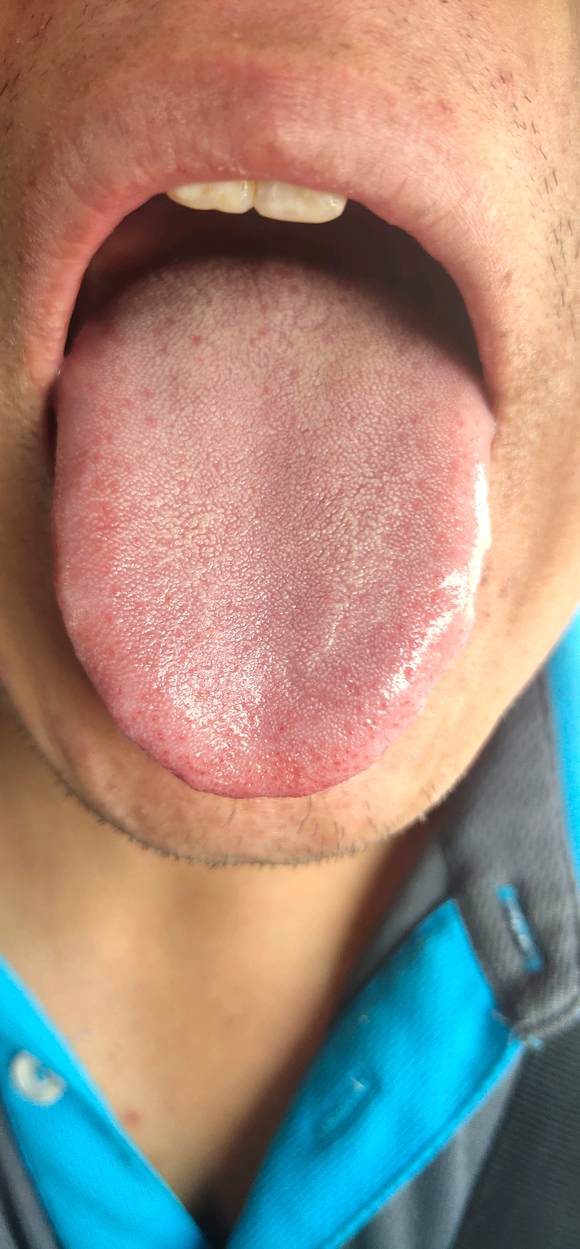baitaishe: (51, 232, 491, 799)
hongdianshe: (187, 328, 206, 350)
